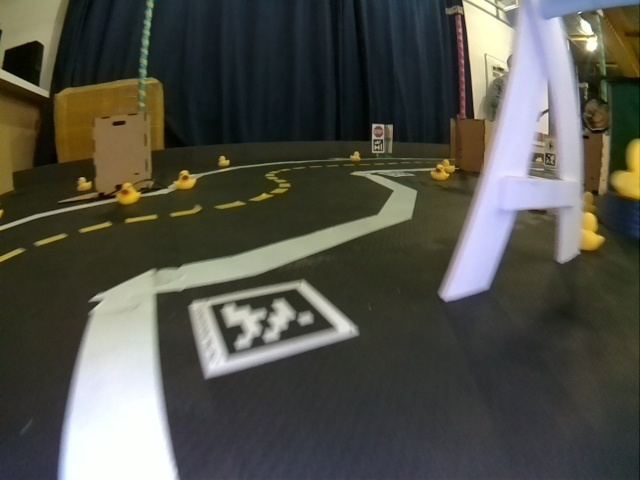Duckie: (609, 138, 638, 197), (578, 215, 605, 250), (117, 184, 140, 206), (173, 170, 196, 190), (581, 192, 596, 210), (431, 166, 449, 181), (442, 159, 455, 174), (216, 154, 230, 167), (350, 151, 360, 160)
QR code: (186, 280, 356, 373), (372, 140, 384, 152)
Stop sign: (373, 126, 383, 138)
